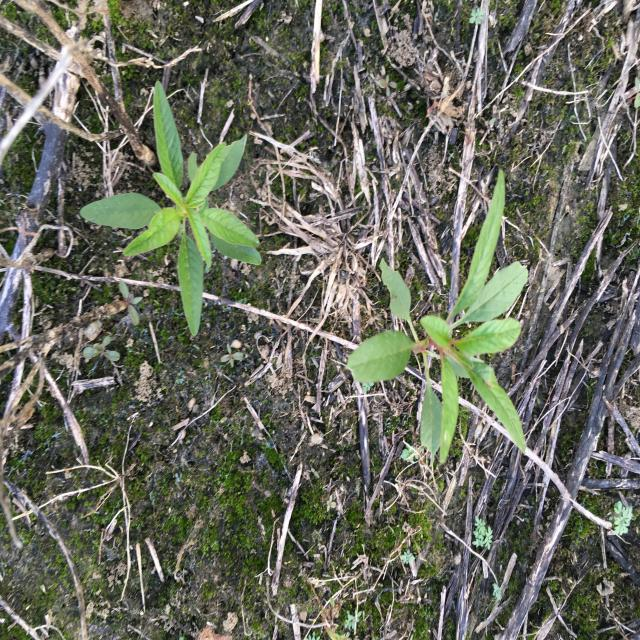Ragweed: (470, 516, 495, 552), (611, 500, 634, 539)
Waterhemp: (344, 167, 531, 466), (78, 79, 264, 338)
